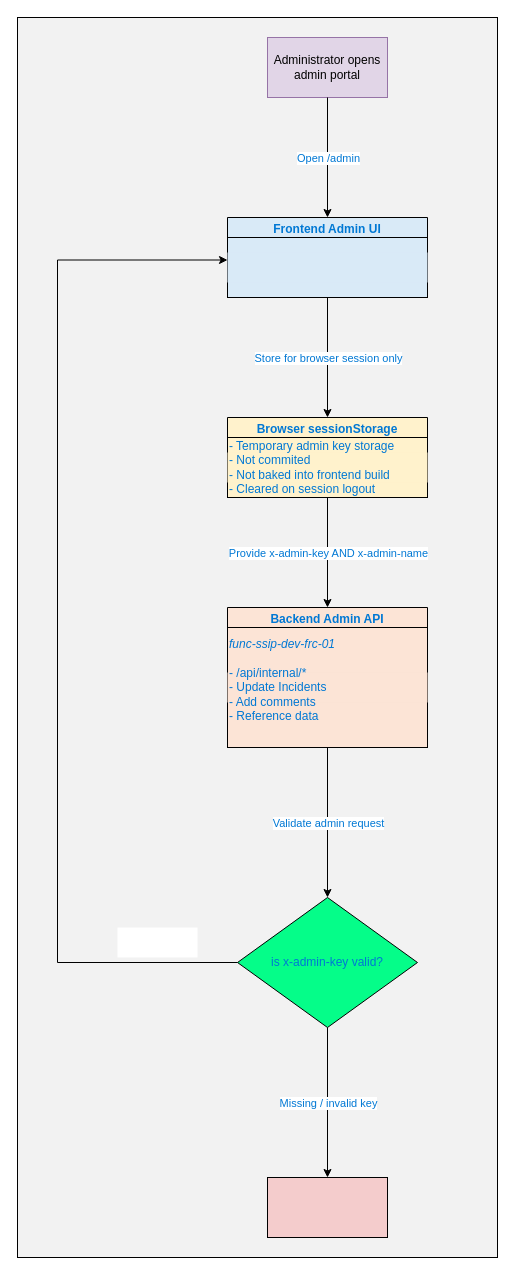
This 515x1275 diagram has some shape labels left out. Each missing label, with the centre of its shape:
"401 Unauthorized JSON Error response Corellation ID" goes at point (327, 1207).
"Incident data and updates" goes at point (157, 942).
"web-ssip-dev-frc-01 Admin enters key and display name" goes at point (327, 267).
